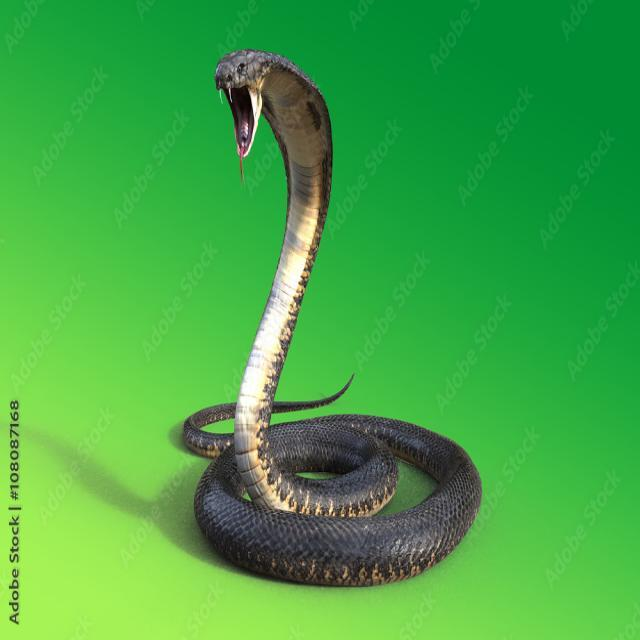Snake: (160, 31, 497, 586)
